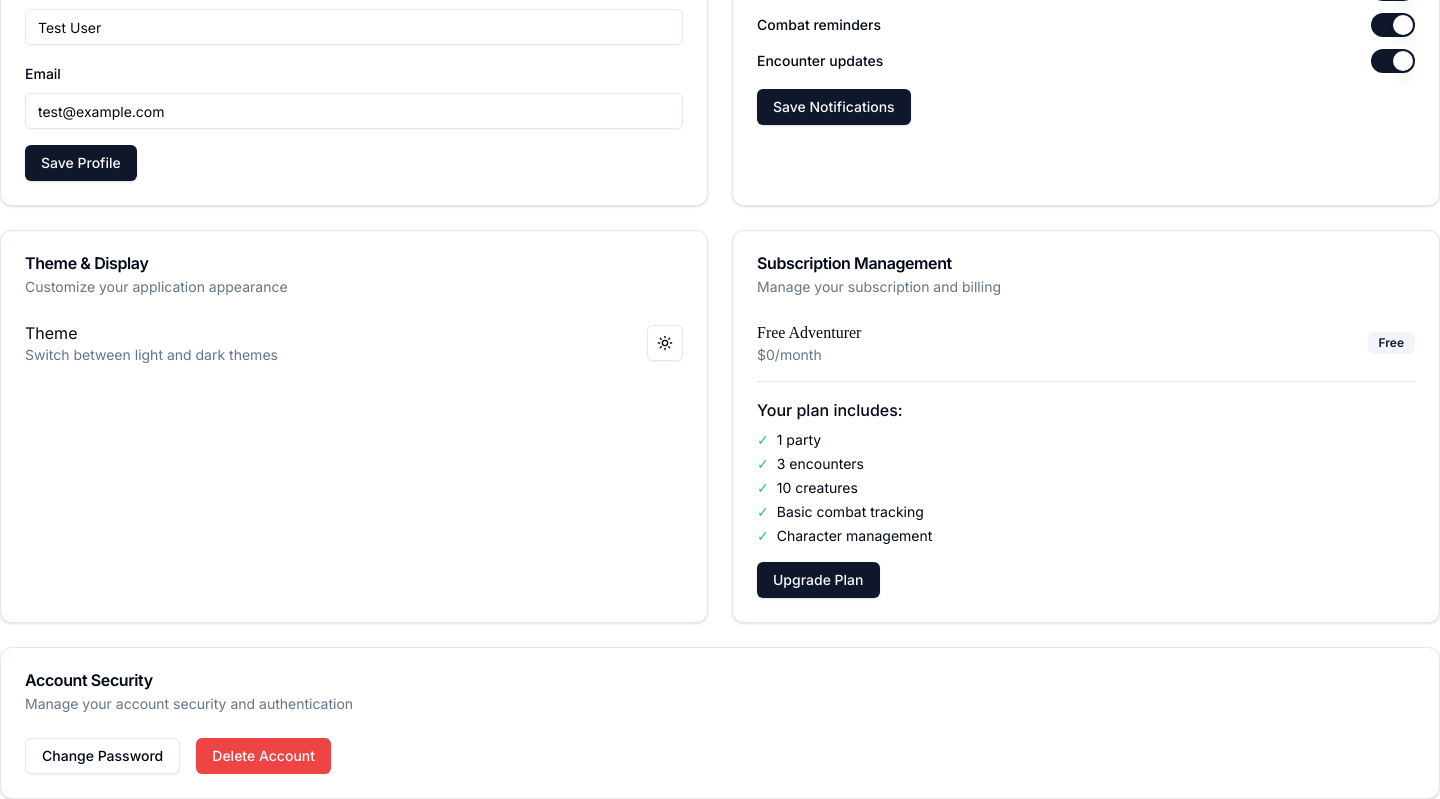
Test: Settings Component - Account Deletion › Delete Account Button › should open delete confirmation modal when delete button is clicked
(page scrolled)
Click the button "Delete Account": click(264, 756) x1=196 y1=738 x2=331 y2=774
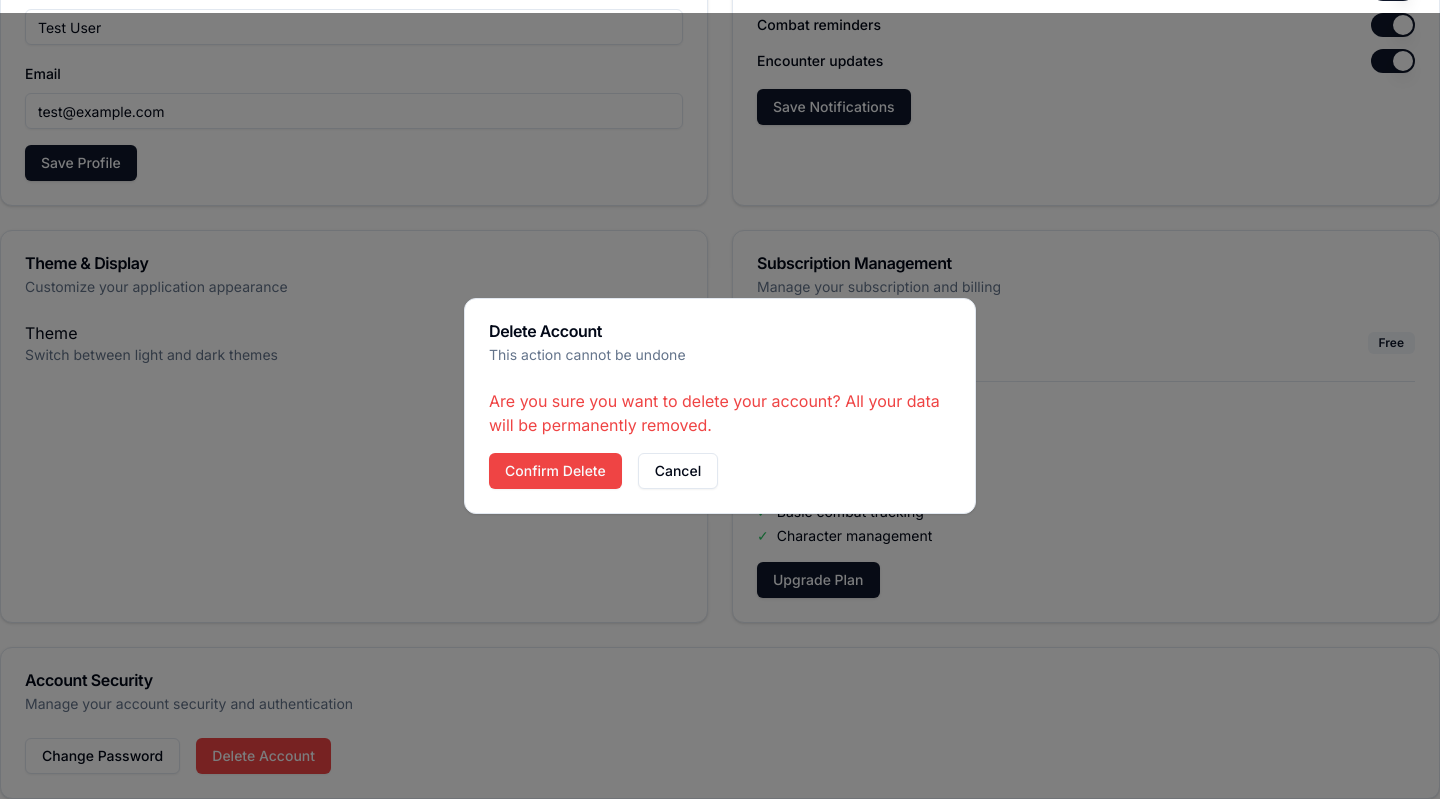
expect the button "Confirm Delete" is shown: met, box x1=489 y1=453 x2=622 y2=489
expect the text "This action cannot be undone" is shown: met, box x1=489 y1=346 x2=686 y2=363
expect the text "All your data will be permanently removed" is shown: met, box x1=489 y1=391 x2=940 y2=435
